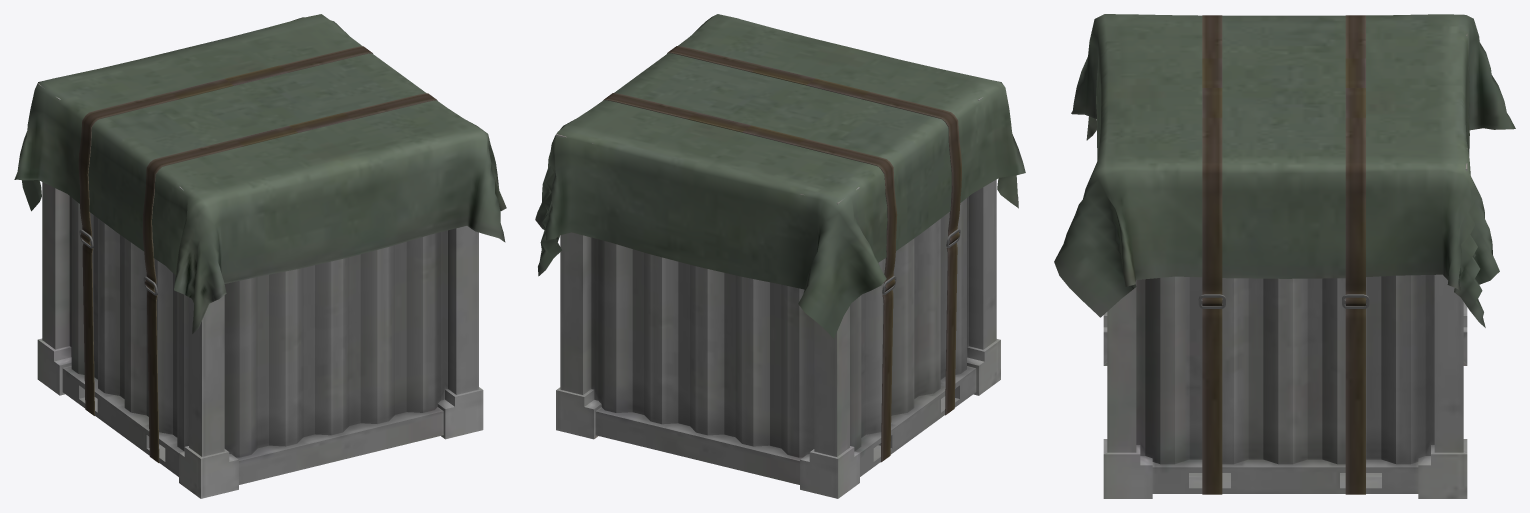
3 views of the same model, side by side, from view 1: azimuth 30°, elevation 25°; view 2: azimuth 150°, elevation 25°; view 3: azimuth 270°, elevation 25° (orthographic). The views are drawn at different scales.
Size of the model in its own units: 1.24 by 1.01 by 1.27.
Materials: 1 (1 with a texture image).
